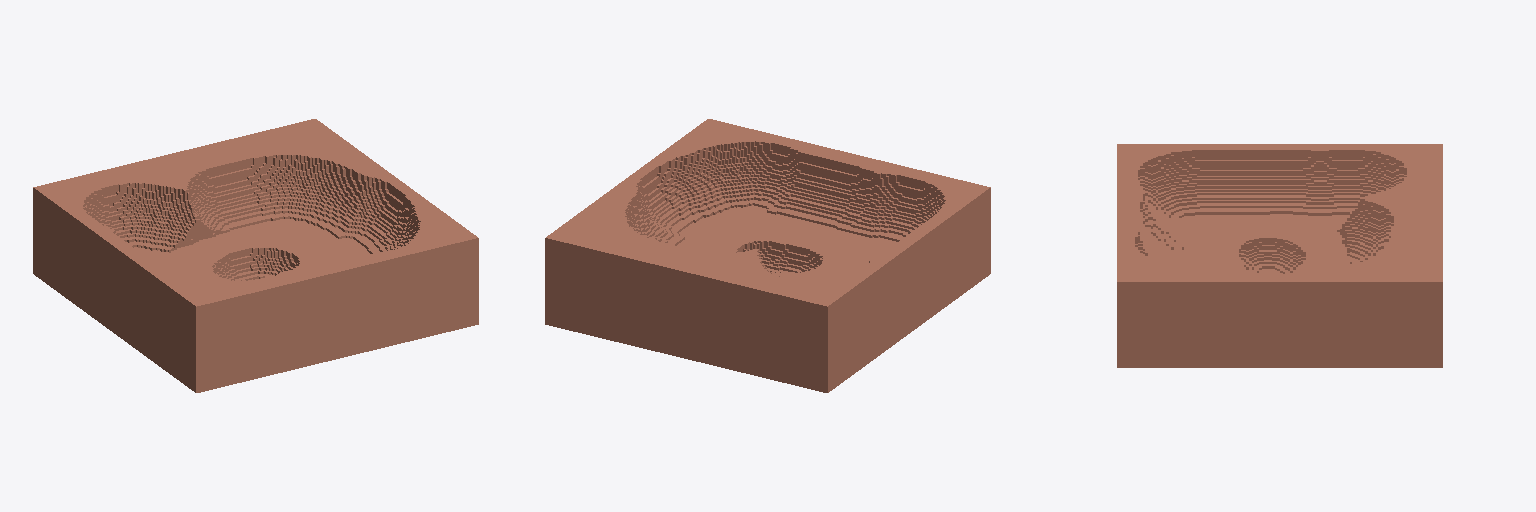
3 renders of one model, left to right at view 1: azimuth 30°, elevation 25°; view 2: azimuth 150°, elevation 25°; view 3: azimuth 270°, elevation 25°, orthographic.
Bounding box in the file's own units: 126 × 37 × 126.
1 materials, 1 textured.